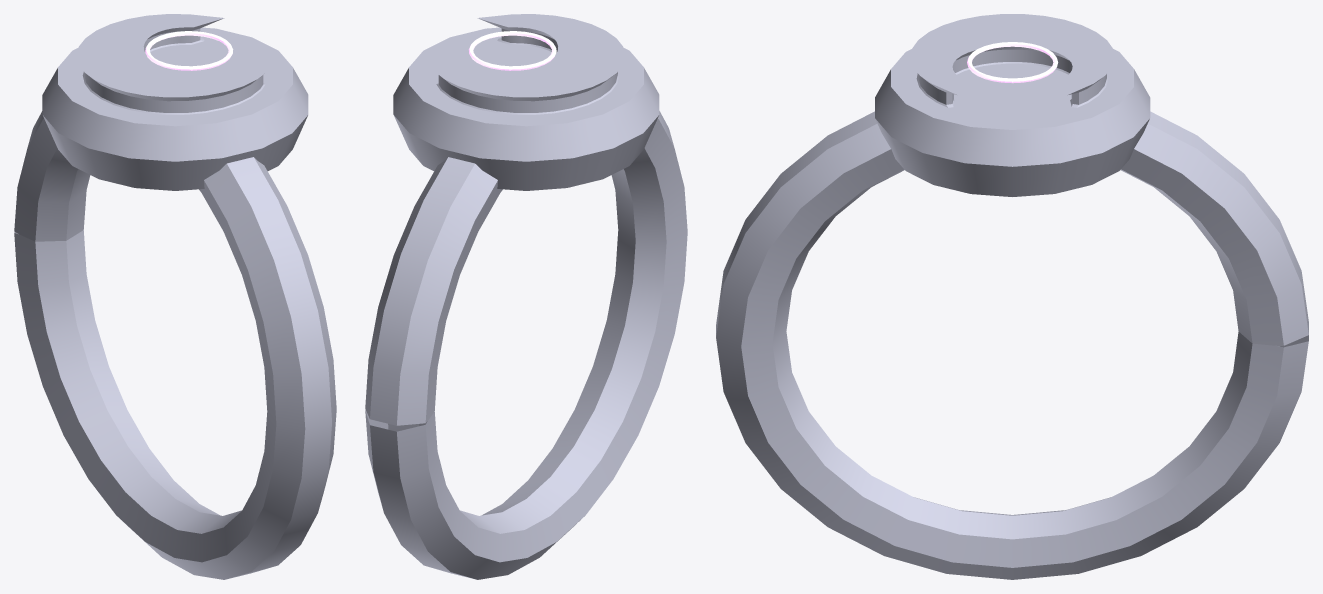
The model's file is boss_eclipse_dancer_accessory_1.glb.
The picture shows the model from 3 angles, left to right: view 1: azimuth 30°, elevation 25°; view 2: azimuth 150°, elevation 25°; view 3: azimuth 270°, elevation 25°; orthographic projection. The views are drawn at different scales.
Visible parts, largest first — view 1: boss_eclipse_dancer_accessory_1; view 2: boss_eclipse_dancer_accessory_1; view 3: boss_eclipse_dancer_accessory_1.
Part boxes in pixels (left/top/right/bottom): boss_eclipse_dancer_accessory_1: left=14, top=14, right=336, bottom=579; boss_eclipse_dancer_accessory_1: left=365, top=14, right=687, bottom=579; boss_eclipse_dancer_accessory_1: left=716, top=14, right=1308, bottom=579.
Bounding box in the file's own units: 0.068 × 0.1395 × 0.1442.
